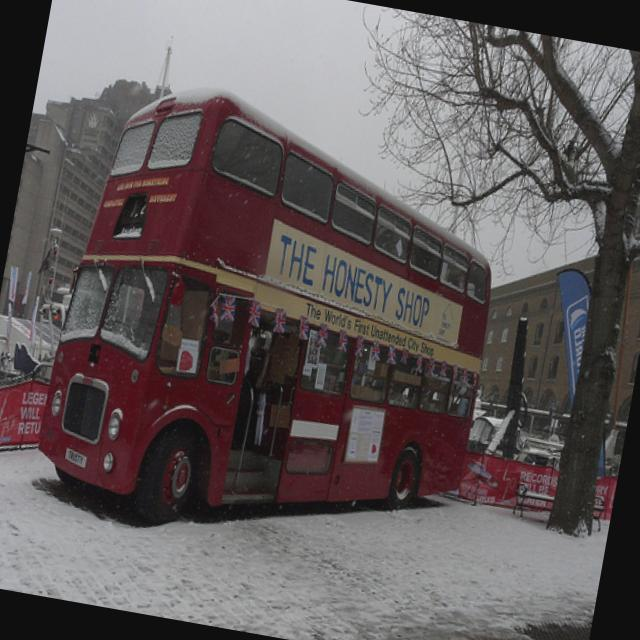Vehicle: (23, 74, 521, 566)
